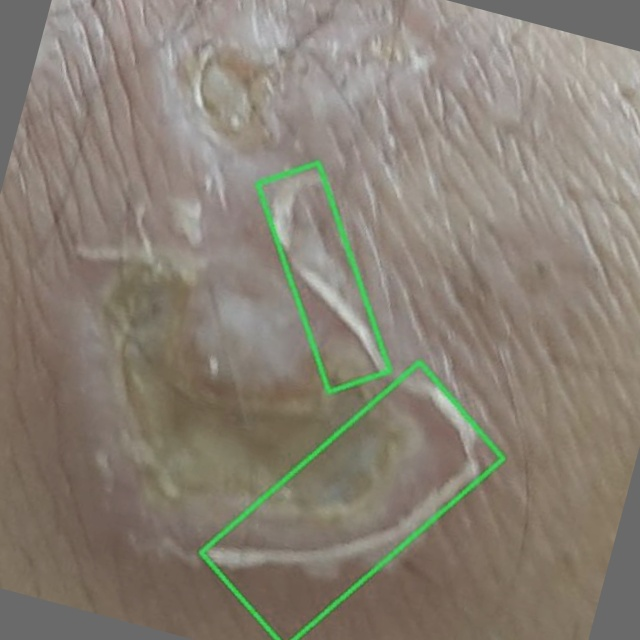Contact Dermatitis: (201, 362, 504, 639), (257, 163, 389, 392)
